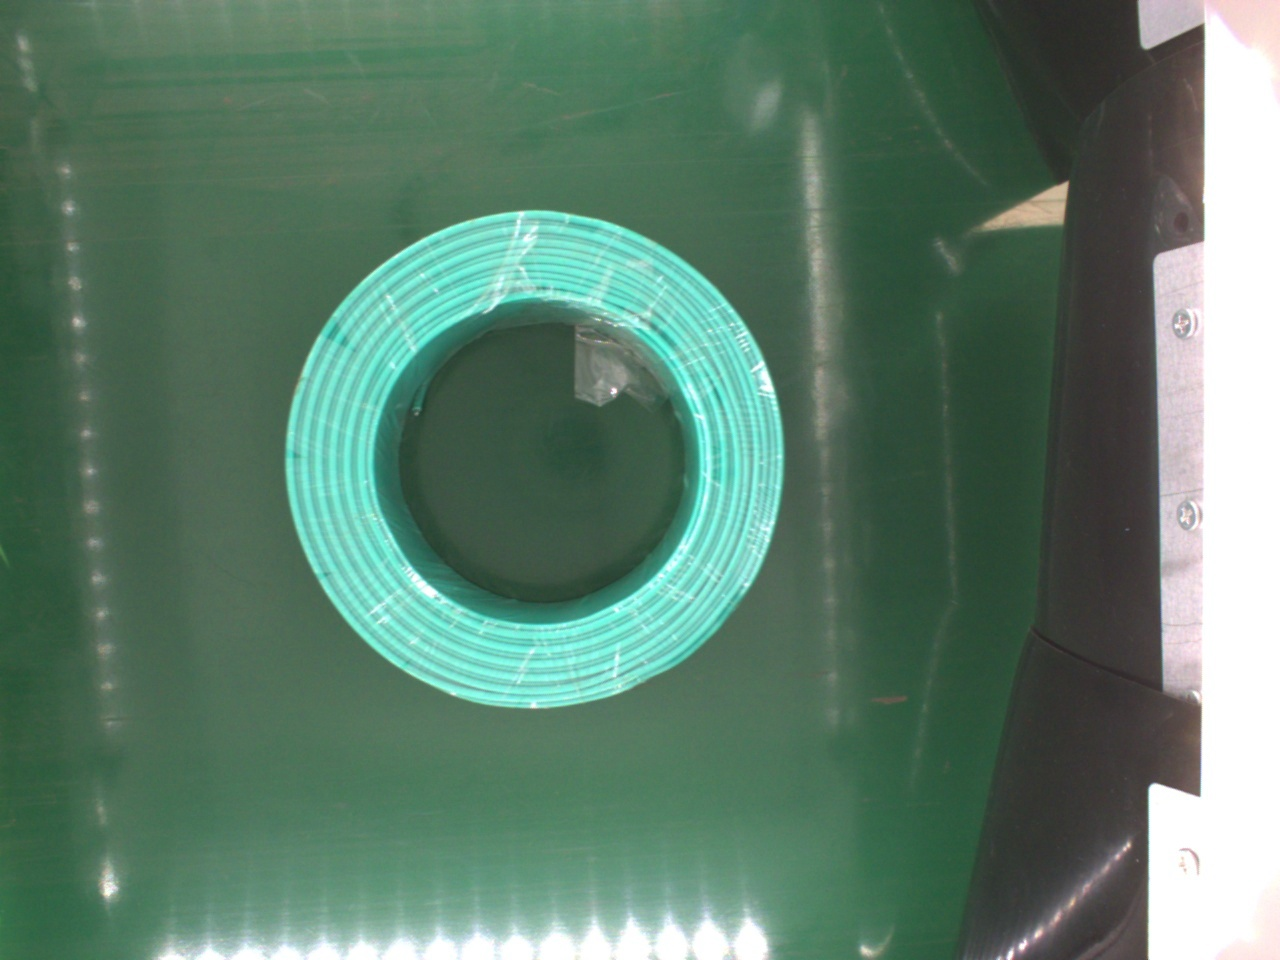green: (283, 208, 787, 715)
